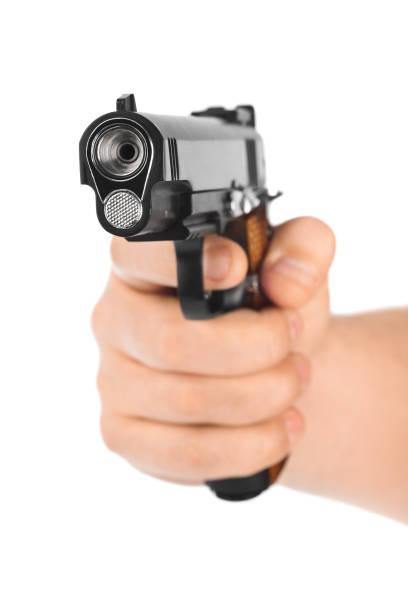weapon: (73, 89, 288, 332)
